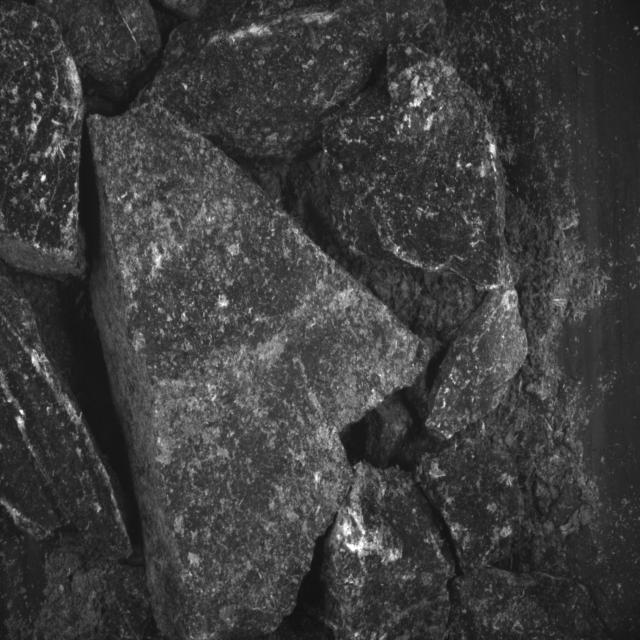Stones: (90, 105, 422, 639), (317, 45, 514, 291), (151, 1, 447, 161), (1, 273, 132, 558), (322, 463, 455, 640), (1, 3, 86, 278), (426, 289, 529, 441), (39, 1, 162, 116), (416, 441, 524, 571), (450, 569, 606, 640)
